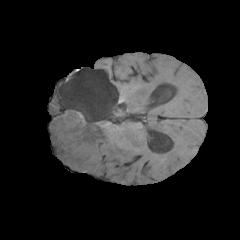glioma: (51, 86, 136, 173)
